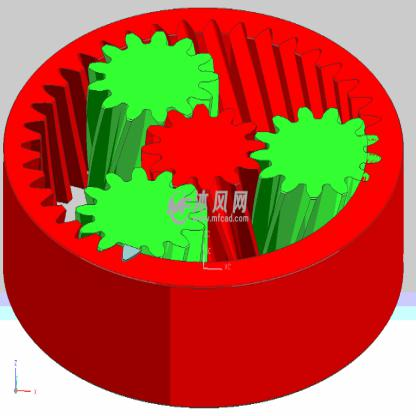FOD: (0, 2, 406, 411), (85, 30, 219, 194), (141, 99, 266, 260), (249, 106, 377, 256), (74, 165, 209, 264)
